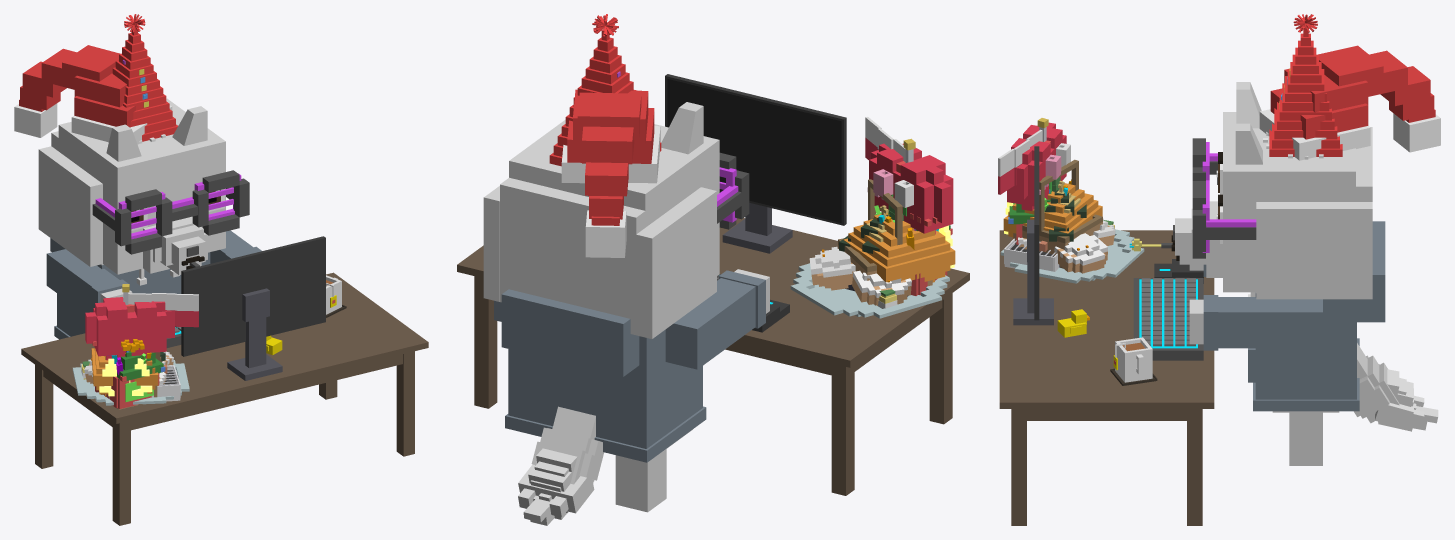
The model's file is wolfie_portfolio.glb.
The picture shows the model from 3 angles, left to right: view 1: azimuth 30°, elevation 25°; view 2: azimuth 150°, elevation 25°; view 3: azimuth 270°, elevation 25°; orthographic projection. The views are drawn at different scales.
Parts seen in each view (by area): view 1: desk_main, monitor_case, head, mikolaj_hat, head_r, walentynki_heart, urodziny_hat, desk_f, hoodie_l_sleeve, glasses_l_frame, glasses_r_frame, hoodie_main (+20 smaller); view 2: head, monitor_screen, hoodie_main, desk_main, mikolaj_hat, head_r, hoodie_hood, hoodie_l_sleeve, halloween_pumpkin, walentynki_heart, desk_leg_TL, urodziny_hat (+22 smaller); view 3: desk_main, head_l, mikolaj_hat, head, hoodie_main, hoodie_r_sleeve, urodziny_hat, keyboard_keys, walentynki_heart, czwartek_donuty, desk_r, czwartek_plate (+27 smaller).
Boxes of the visible parts, bbox=[...] form: desk_main: bbox=[21, 272, 428, 423]; monitor_case: bbox=[181, 236, 325, 356]; head: bbox=[51, 98, 225, 274]; mikolaj_hat: bbox=[14, 45, 172, 144]; head_r: bbox=[38, 146, 102, 266]; walentynki_heart: bbox=[85, 297, 174, 361]; urodziny_hat: bbox=[112, 14, 177, 143]; desk_f: bbox=[131, 354, 402, 430]; hoodie_l_sleeve: bbox=[46, 249, 119, 313]; glasses_l_frame: bbox=[115, 189, 172, 254]; glasses_r_frame: bbox=[192, 170, 249, 235]; hoodie_main: bbox=[57, 243, 210, 336]; head: bbox=[500, 119, 719, 334]; monitor_screen: bbox=[667, 78, 841, 222]; hoodie_main: bbox=[508, 329, 702, 448]; desk_main: bbox=[457, 218, 969, 367]; mikolaj_hat: bbox=[561, 89, 660, 257]; head_r: bbox=[636, 187, 716, 338]; hoodie_hood: bbox=[501, 289, 639, 376]; hoodie_l_sleeve: bbox=[665, 278, 755, 369]; halloween_pumpkin: bbox=[843, 206, 955, 282]; walentynki_heart: bbox=[869, 143, 953, 234]; desk_leg_TL: bbox=[831, 363, 854, 495]; urodziny_hat: bbox=[549, 14, 661, 166]; desk_main: bbox=[999, 230, 1214, 408]; head_l: bbox=[1256, 202, 1372, 299]; mikolaj_hat: bbox=[1259, 45, 1440, 160]; head: bbox=[1223, 112, 1372, 292]; hoodie_main: bbox=[1255, 292, 1356, 399]; hoodie_r_sleeve: bbox=[1218, 297, 1322, 348]; urodziny_hat: bbox=[1263, 14, 1342, 159]; keyboard_keys: bbox=[1141, 278, 1195, 346]; walentynki_heart: bbox=[1007, 122, 1066, 210]; czwartek_donuty: bbox=[1018, 218, 1115, 273]; desk_r: bbox=[1027, 409, 1186, 420]; czwartek_plate: bbox=[1000, 229, 1144, 283].
Size of what is drawn, in the model's own units: 5.03 by 5.7 by 5.33.
